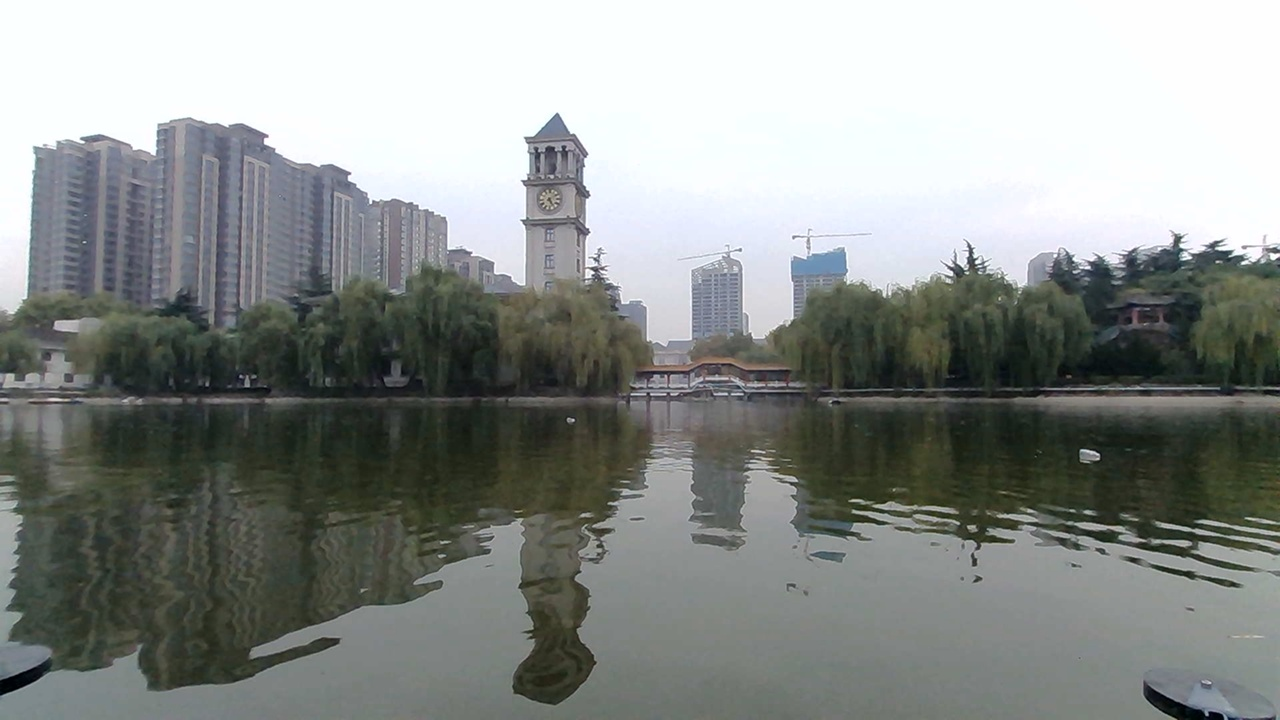bottle: (1075, 444, 1107, 465)
